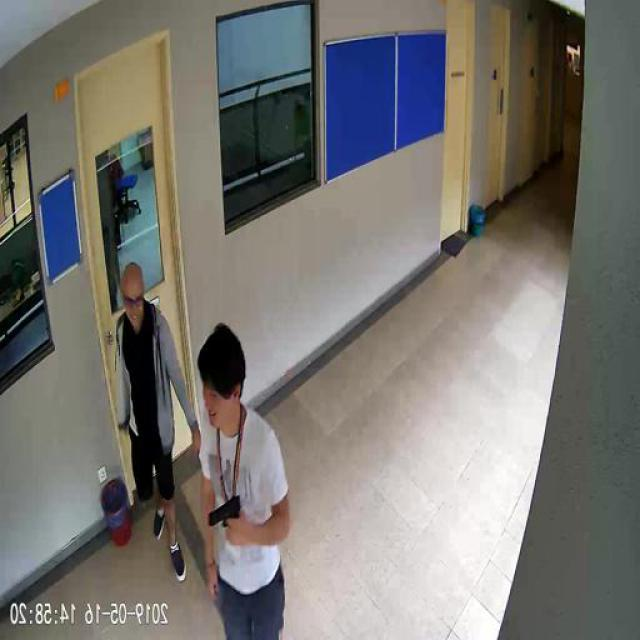Gun: (210, 492, 242, 542)
